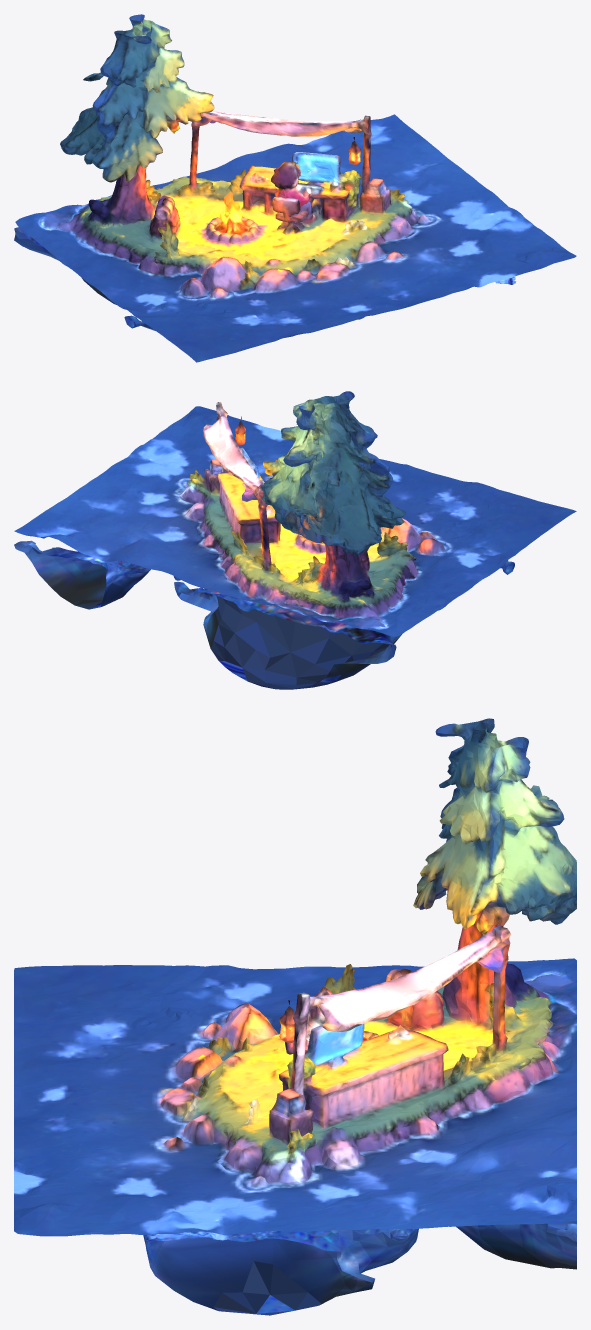
File: island.glb
3 views of the same model, one above another, from view 1: azimuth 30°, elevation 25°; view 2: azimuth 150°, elevation 25°; view 3: azimuth 270°, elevation 25° (orthographic). The views are drawn at different scales.
Parts seen in each view (by area): view 1: world; view 2: world; view 3: world.
Boxes of the visible parts, left/top/right/bottom form: world: left=14, top=14, right=576, bottom=362; world: left=14, top=391, right=576, bottom=689; world: left=14, top=718, right=576, bottom=1315.
Size of the model in its own units: 12 by 8.57 by 10.
Materials: 1 (1 with a texture image).
